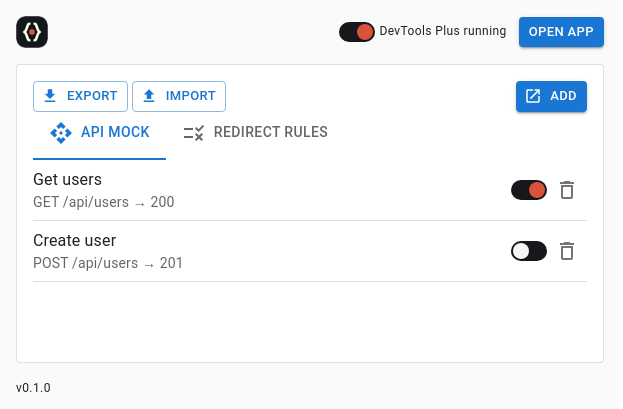
Scenario: Popup › deleting scoped to the active tab › deletes only the targeted mock-response item, leaving the rest of that tab untouched
Click the button named "Delete Get users": (567, 190) [547, 170, 587, 210]
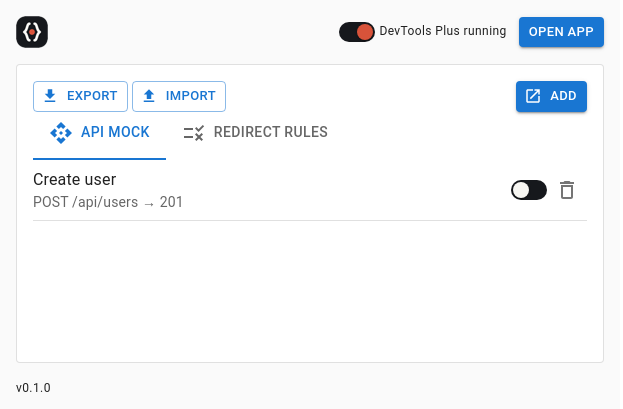
Expected: the text "Create user" is shown, [33, 170, 116, 189]
Expected: the text "Get users" is gone
